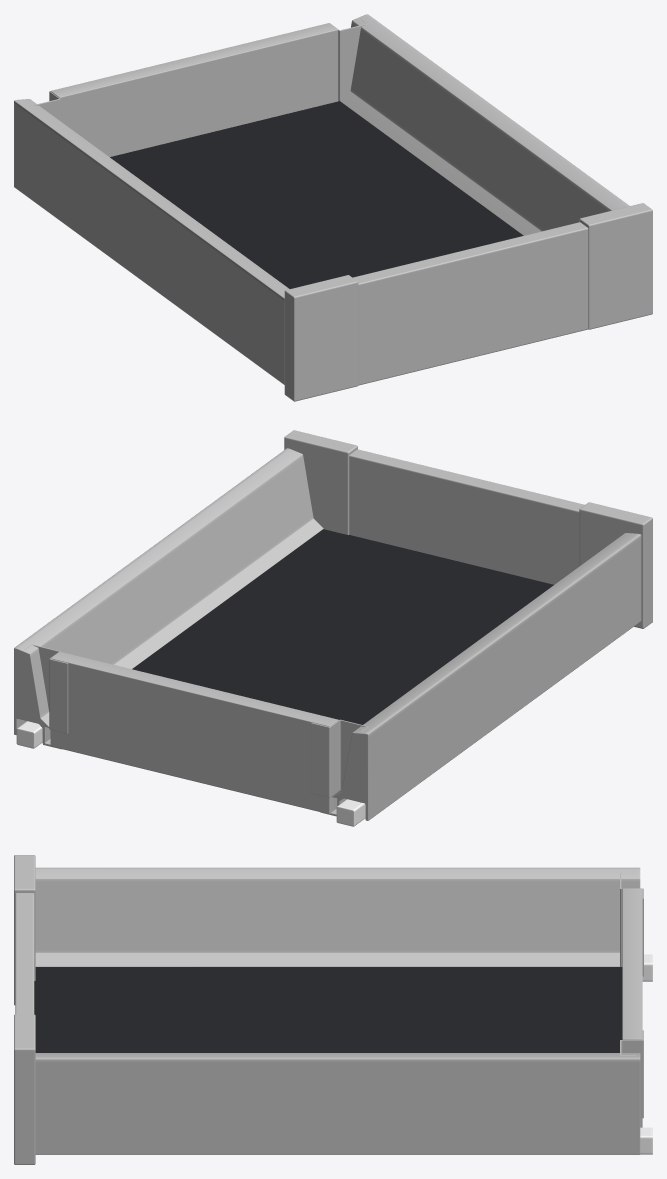
File: Kitchen02Drawer01.obj
The picture shows the model from 3 angles, top to bottom: view 1: azimuth 30°, elevation 25°; view 2: azimuth 150°, elevation 25°; view 3: azimuth 270°, elevation 25°; orthographic projection. The views are drawn at different scales.
Parts seen in each view (by area): view 1: SM_Kitchen_02_Drawer_01_57; view 2: SM_Kitchen_02_Drawer_01_57; view 3: SM_Kitchen_02_Drawer_01_57.
Boxes of the visible parts, <box> form: SM_Kitchen_02_Drawer_01_57: <box>14,14,652,401</box>; SM_Kitchen_02_Drawer_01_57: <box>14,430,652,826</box>; SM_Kitchen_02_Drawer_01_57: <box>14,855,652,1164</box>.
Bounding box in the file's own units: 36.2 × 10.1 × 50.29.
